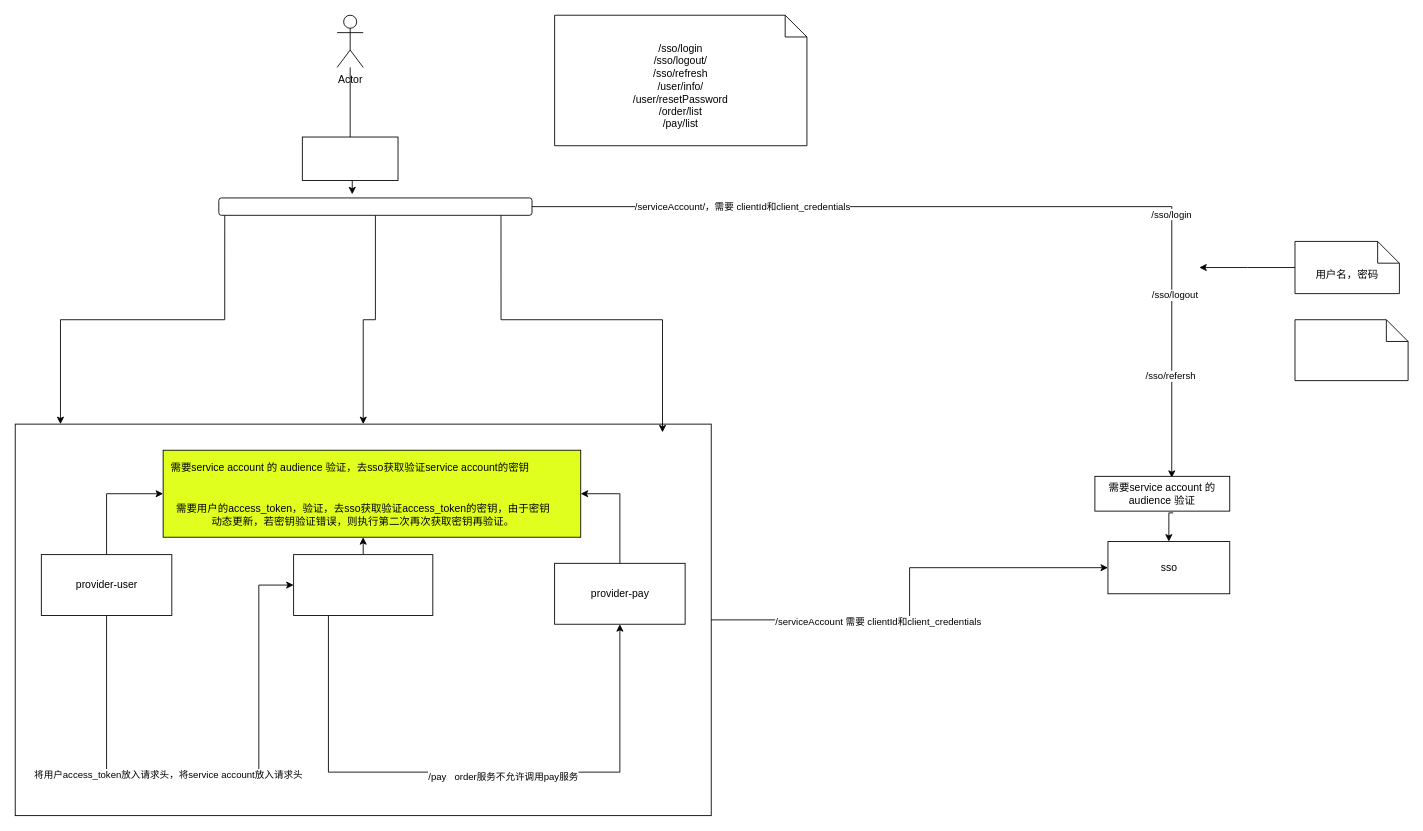
The diagram is 1423 pixels wide and 831 high, and some of its shapes have lost their labels. The shapes that lost their labels are listed below. From the top down, each one's centre as x and y in pixels, then its label:
At point 349,158: "网关".
At point 375,206: "携带gateway的service account".
At point 1351,350: "access_token和refresh_token".
At point 363,585: "provider-order".
